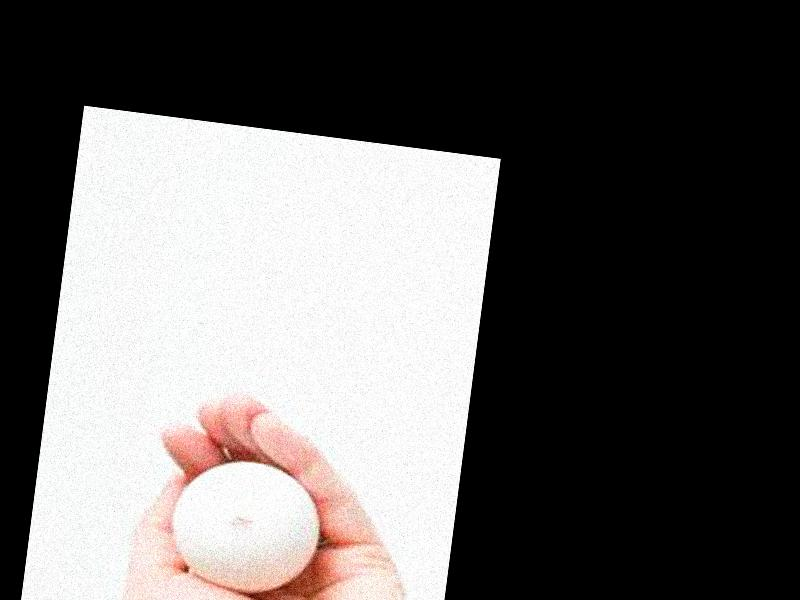Eggs: (169, 453, 324, 598)
